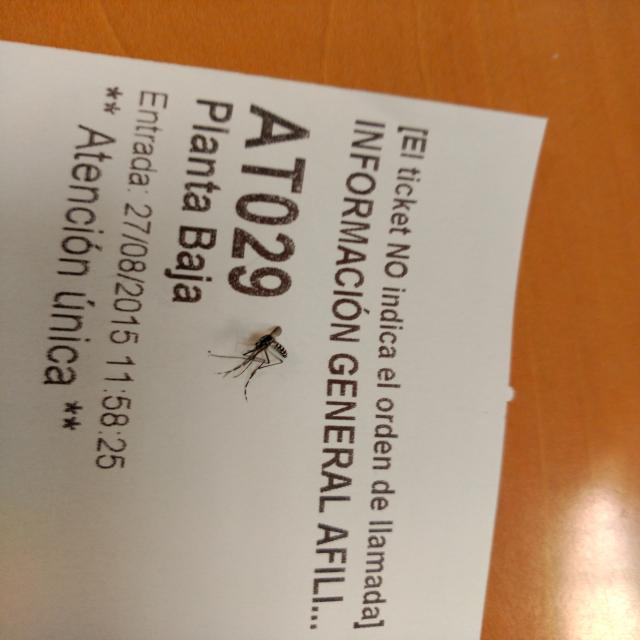albopictus: (201, 320, 298, 404)
